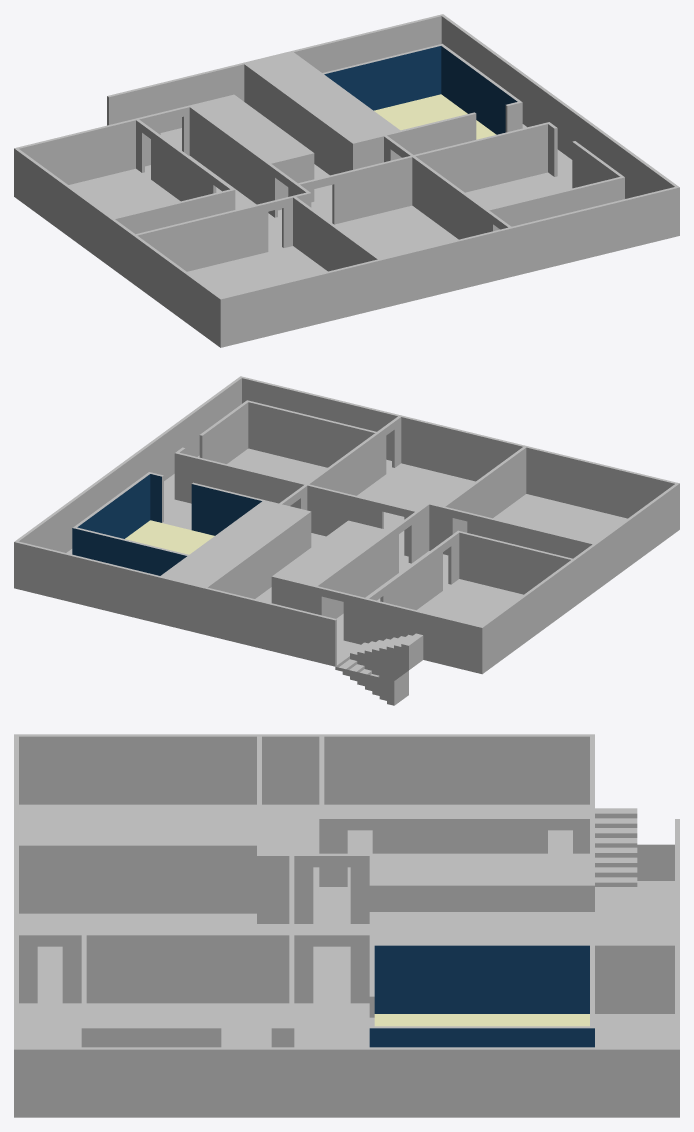
The model's file is classroom.gltf.
3 renders of one model, top to bottom at view 1: azimuth 30°, elevation 25°; view 2: azimuth 150°, elevation 25°; view 3: azimuth 270°, elevation 25°, orthographic. The views are drawn at different scales.
Visible parts, largest first — view 1: root; view 2: root; view 3: root.
Boxes of the visible parts, x1,y1,x2,y2 form: root: [14, 14, 679, 347]; root: [14, 376, 679, 705]; root: [14, 734, 679, 1117].
Size of the model in its own units: 29.78 by 4.6 by 26.6.
